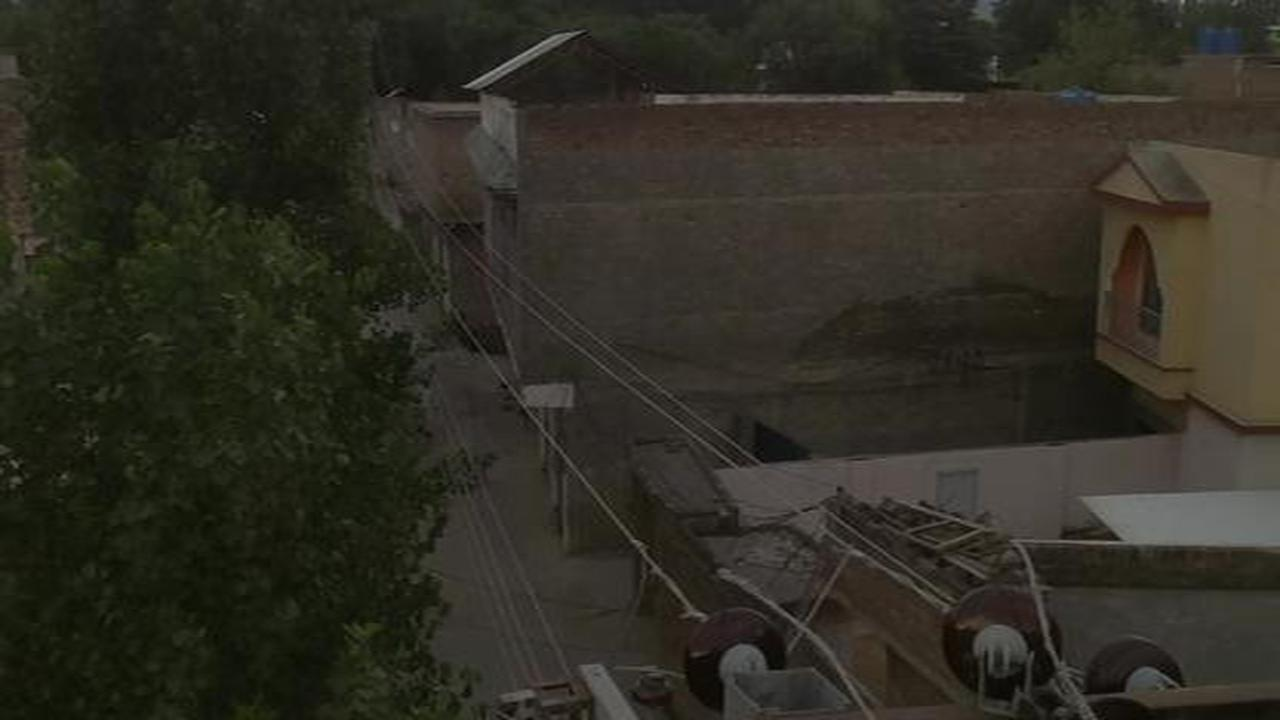insulator_disc: (939, 582, 1064, 690), (681, 604, 792, 701), (1081, 637, 1188, 698)
